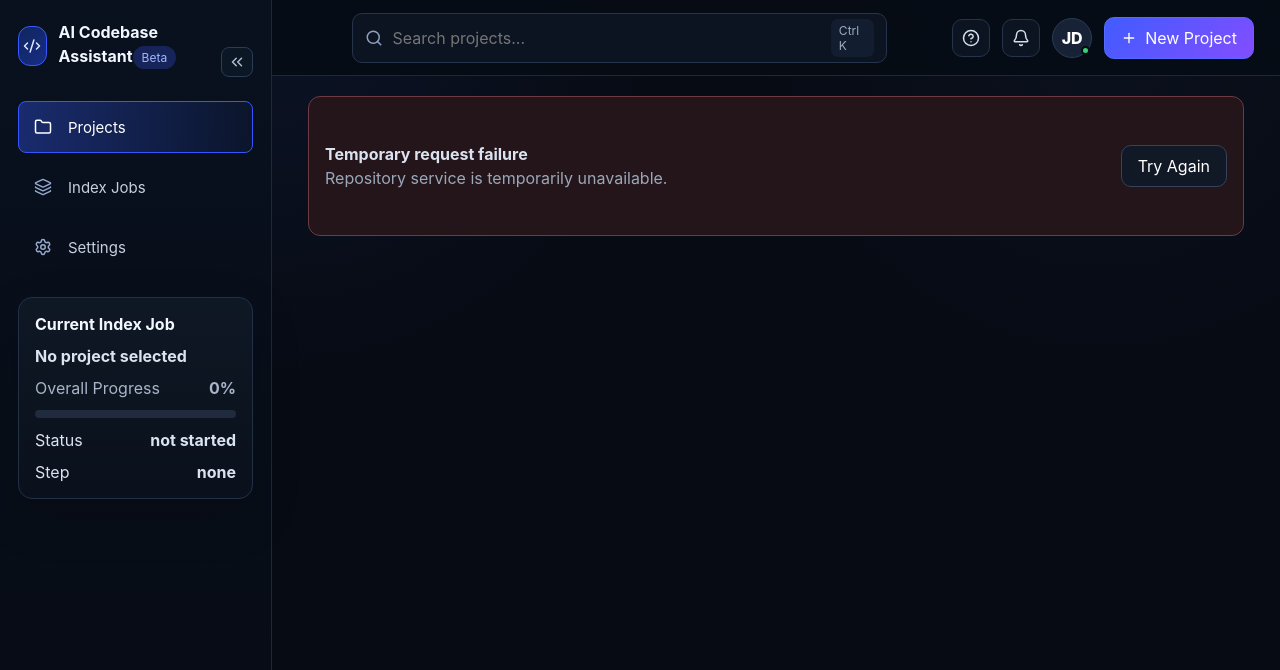
Scenario: App routing › shows a retryable query error and recovers without reloading the app
Expected: the text "Temporary request failure" is shown, x1=325 y1=144 x2=528 y2=164
Click the button "Try Again": (1174, 166) x1=1121 y1=145 x2=1227 y2=187
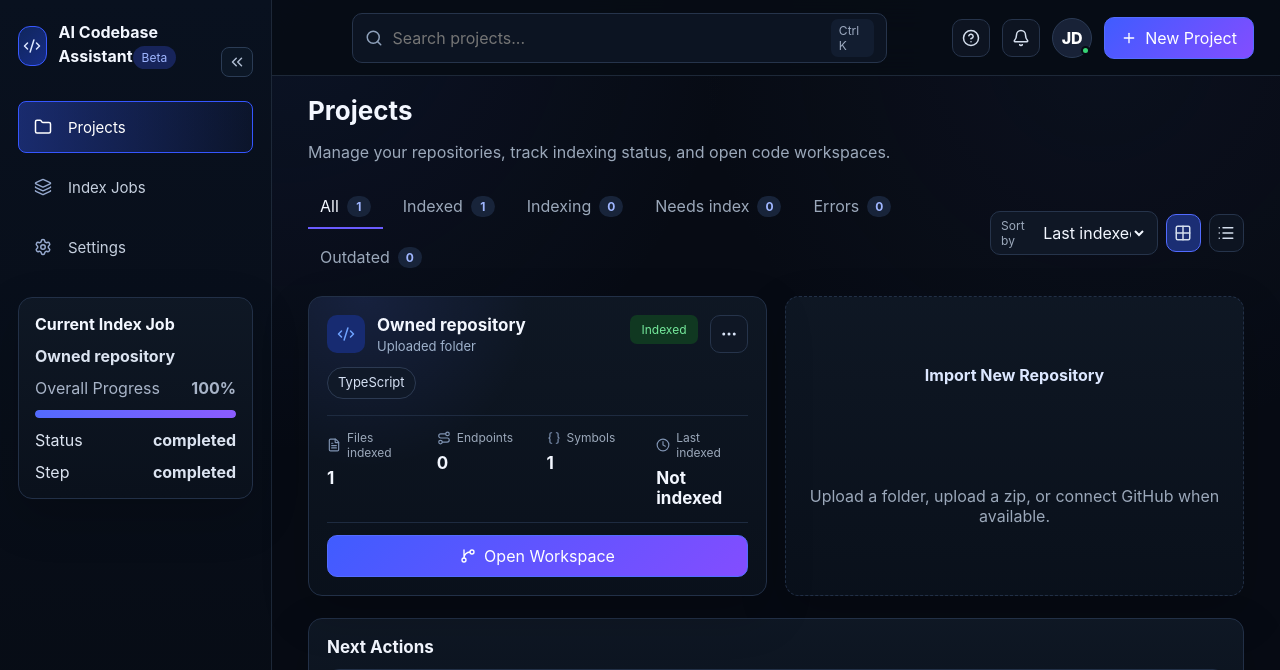
Expected: the heading "Projects" is shown, x1=308 y1=95 x2=412 y2=126
